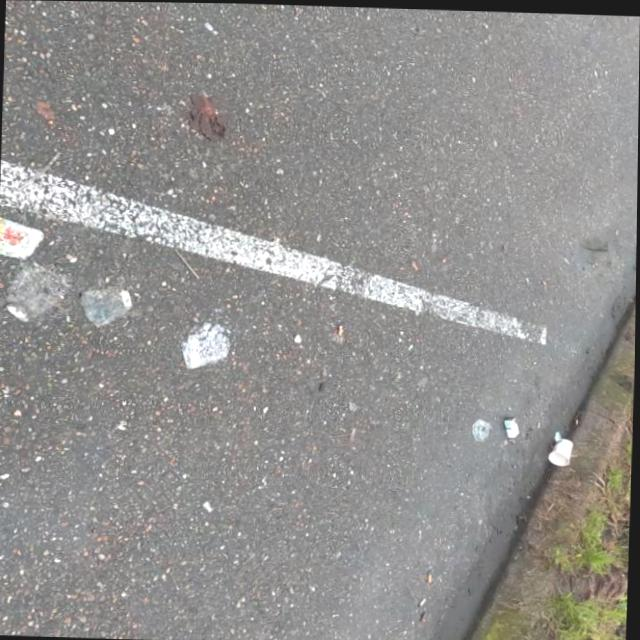Cup: (549, 434, 576, 464)
Paper: (179, 318, 235, 370), (471, 415, 496, 439), (504, 413, 522, 435)
Plastic: (0, 213, 48, 261), (554, 429, 562, 439)
